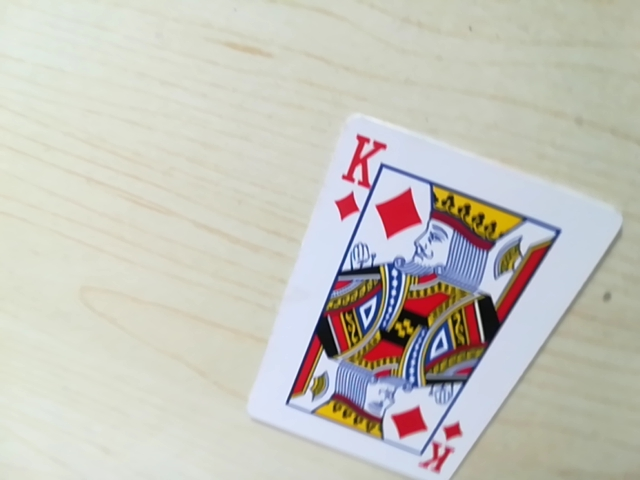fk k: (329, 122, 389, 228), (413, 420, 468, 478)
